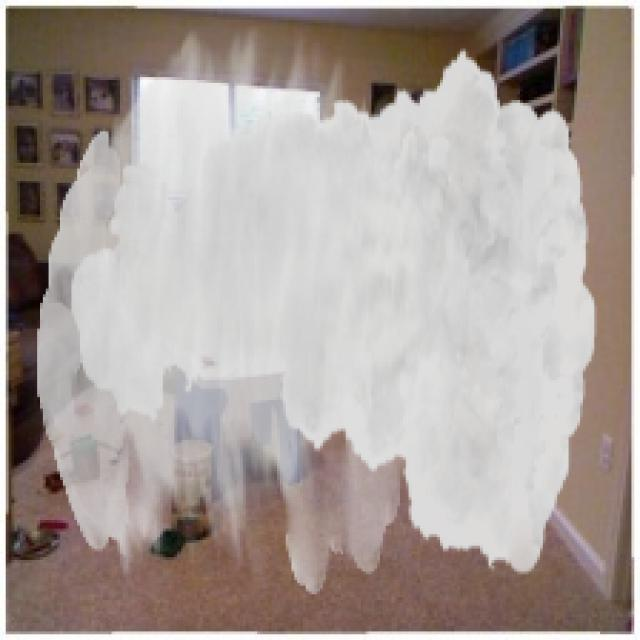Smoke: (37, 26, 597, 594)
